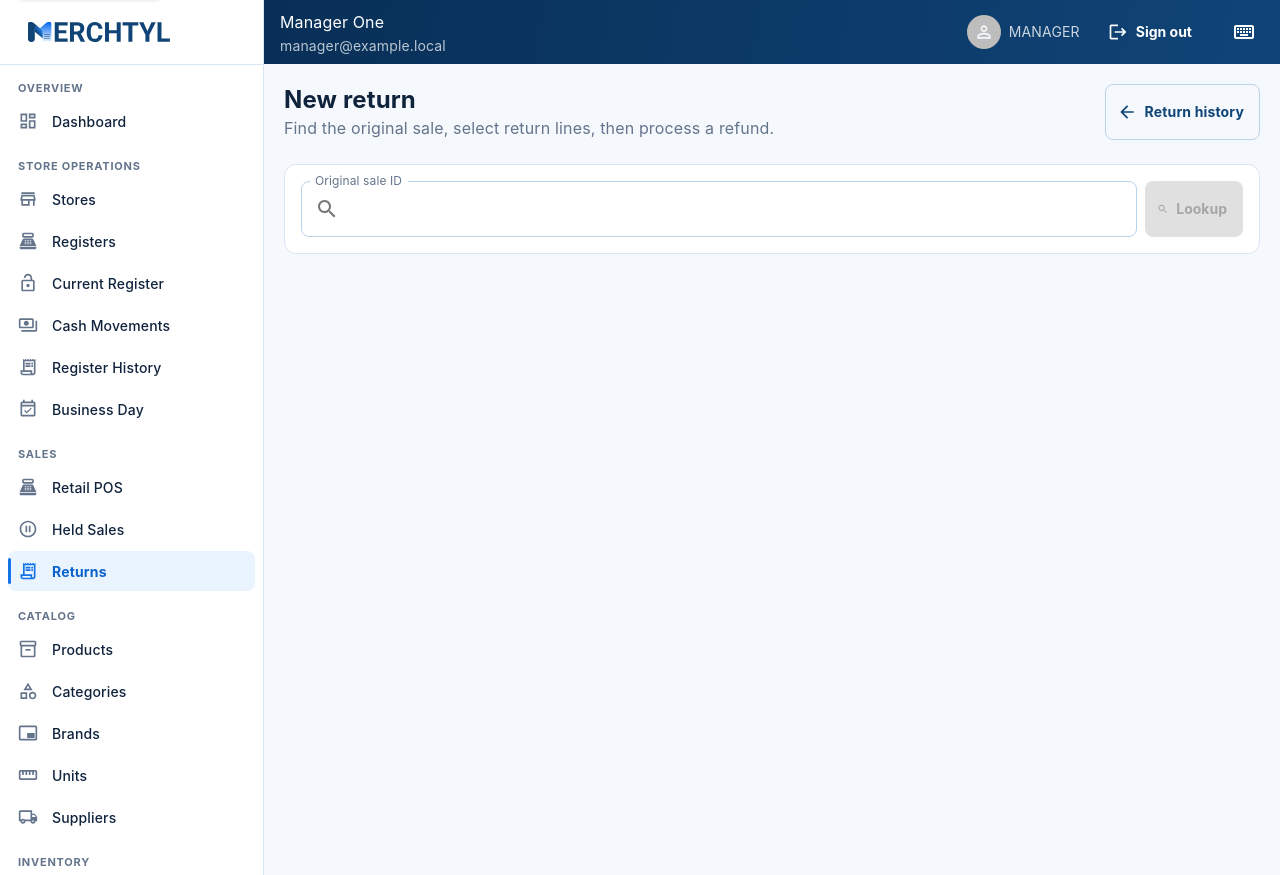
it: return and refund pages › creates a return and processes a refund from the original sale
Expected: the heading "New return" is shown, [284,85,416,114]
Type "00000000-0000-0000-0000-000000000910" into the field labelled "Original sale ID".
click(742, 209); type("00000000-0000-0000-0000-000000000910")  # box [347,181,1137,237]
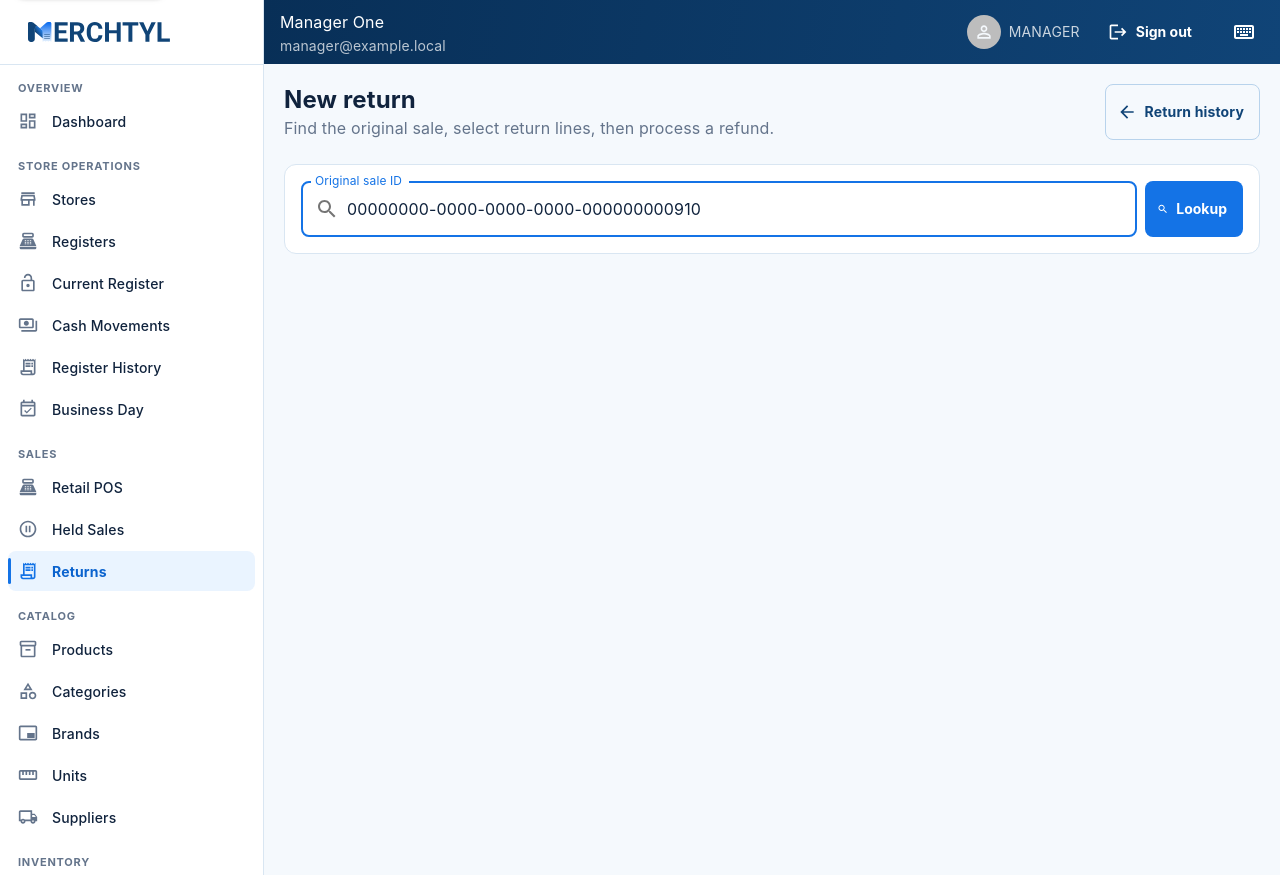
Click the button "Lookup".
click(1194, 209)  # box [1145,181,1243,237]
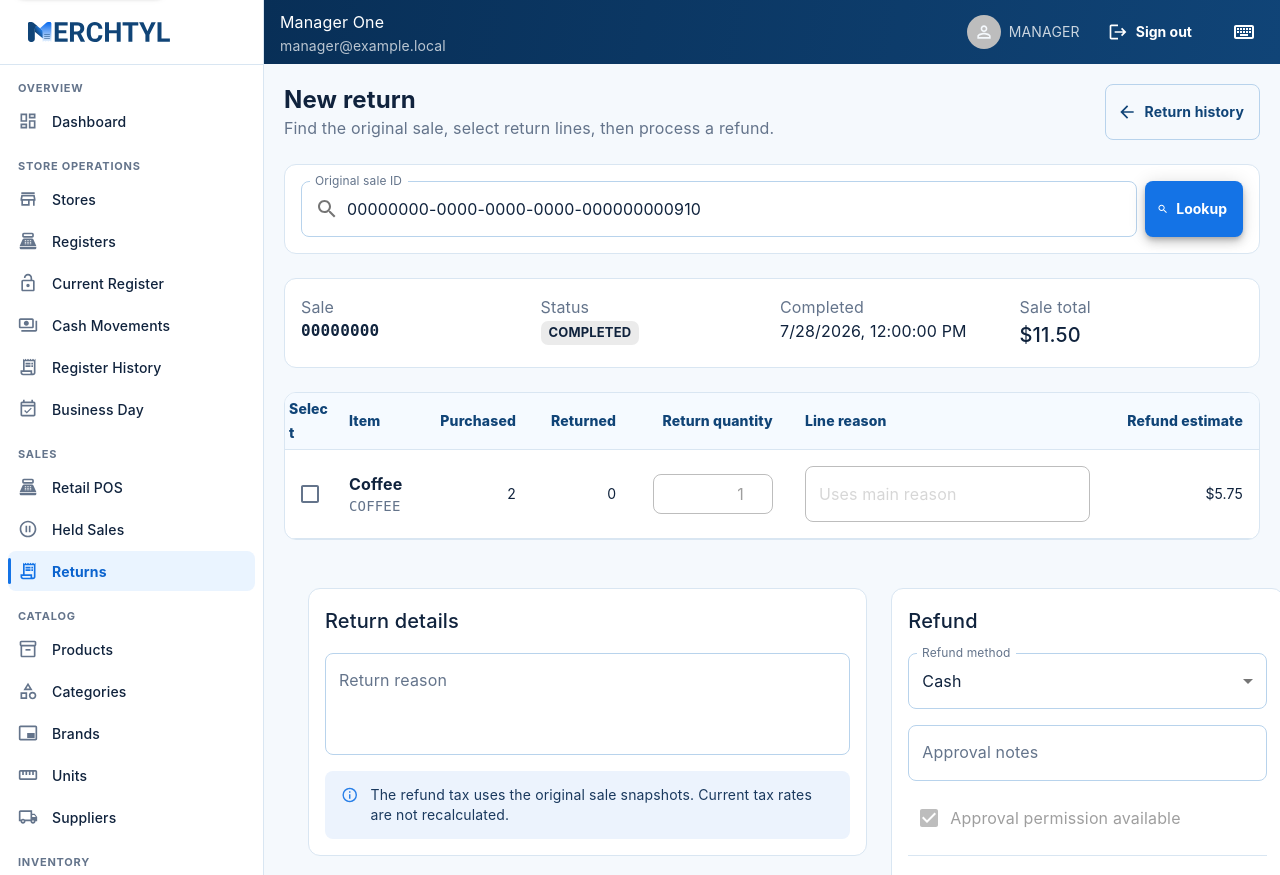
Now the text "Coffee" is shown, box [349,472,405,496]
Click the checkbox named "Select Coffee".
click(310, 494)  # box [298,482,322,506]
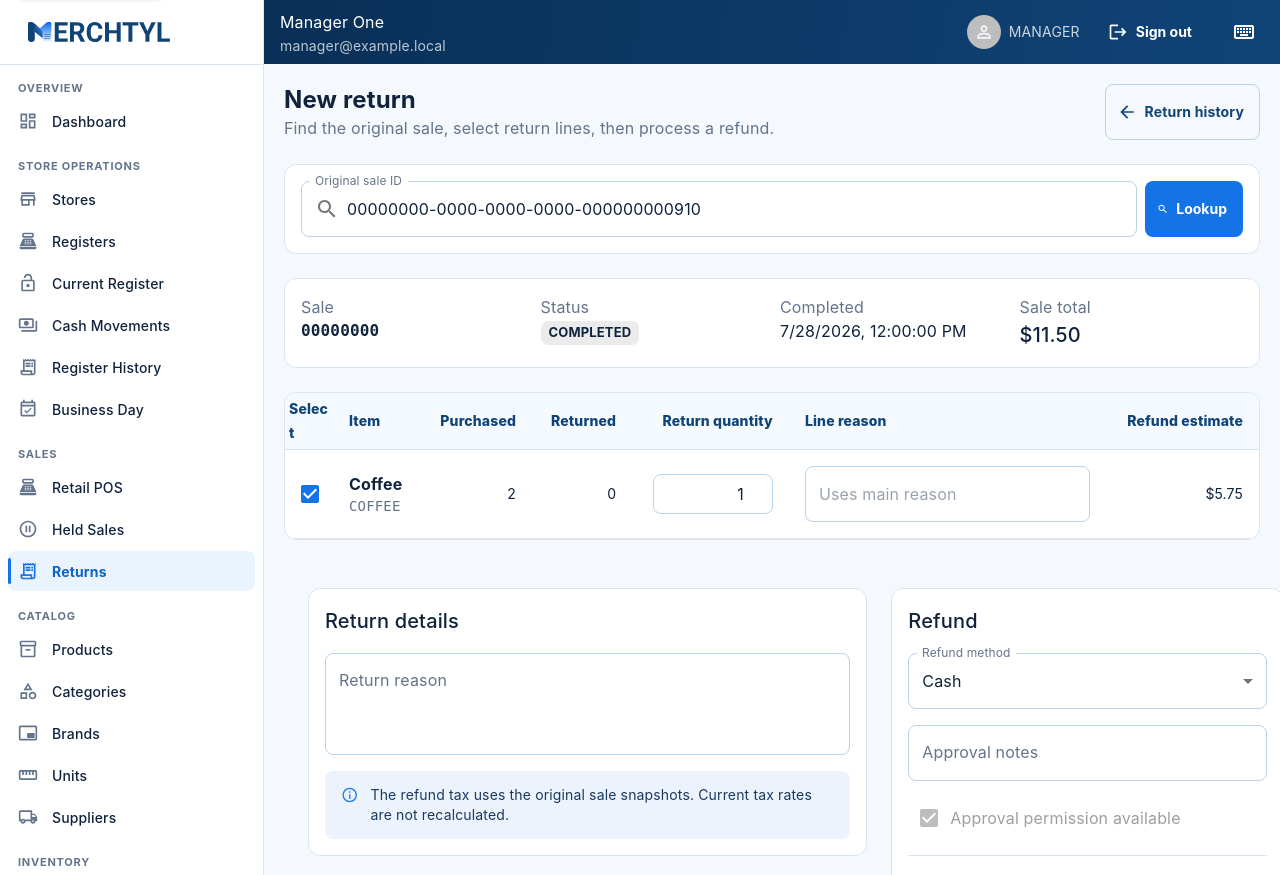
Type "Customer changed mind" into the text box named "Main return reason".
click(588, 704); type("Customer changed mind")  # box [339,670,836,738]
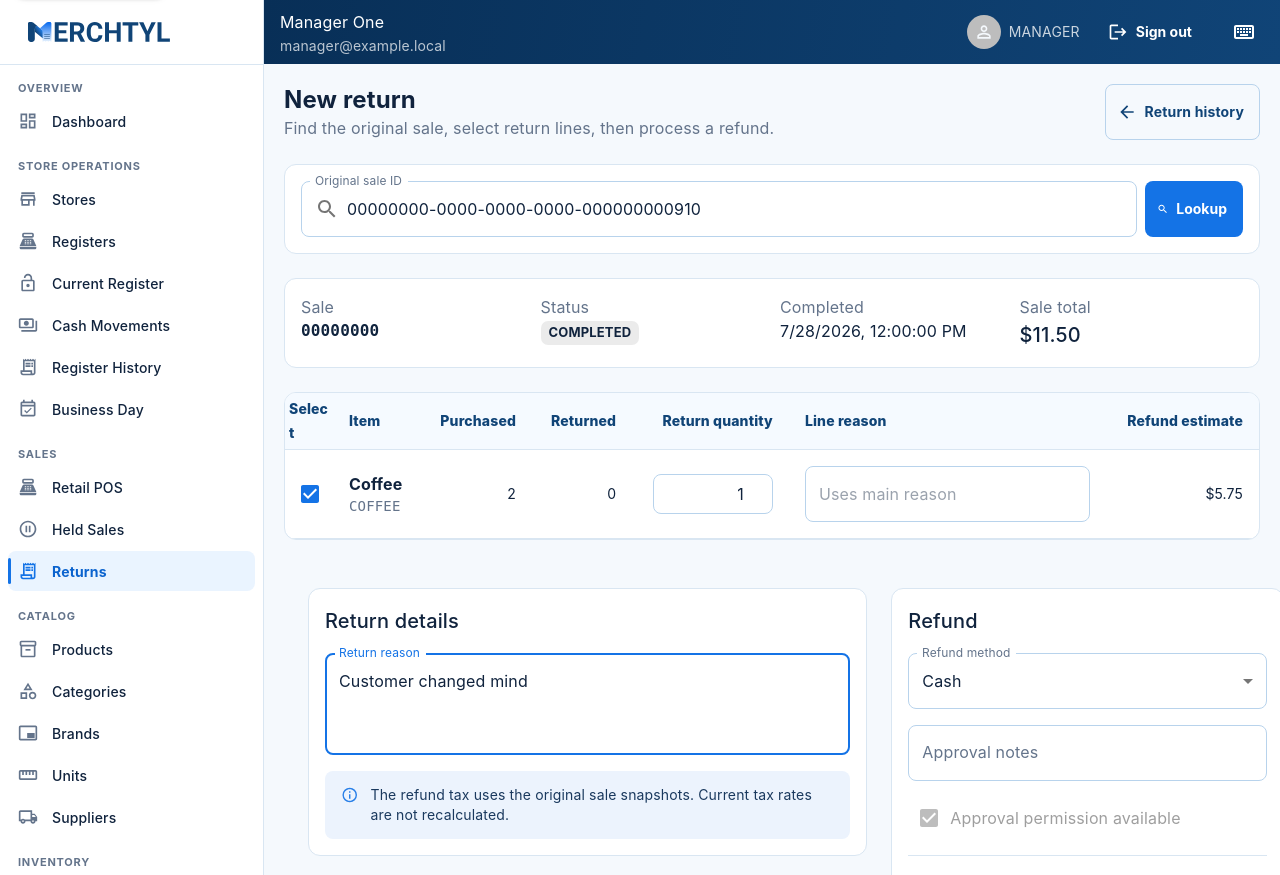
Type "Approved by manager" into the field labelled "Approval notes".
click(1088, 753); type("Approved by manager")  # box [908,725,1267,781]
(page scrolled)
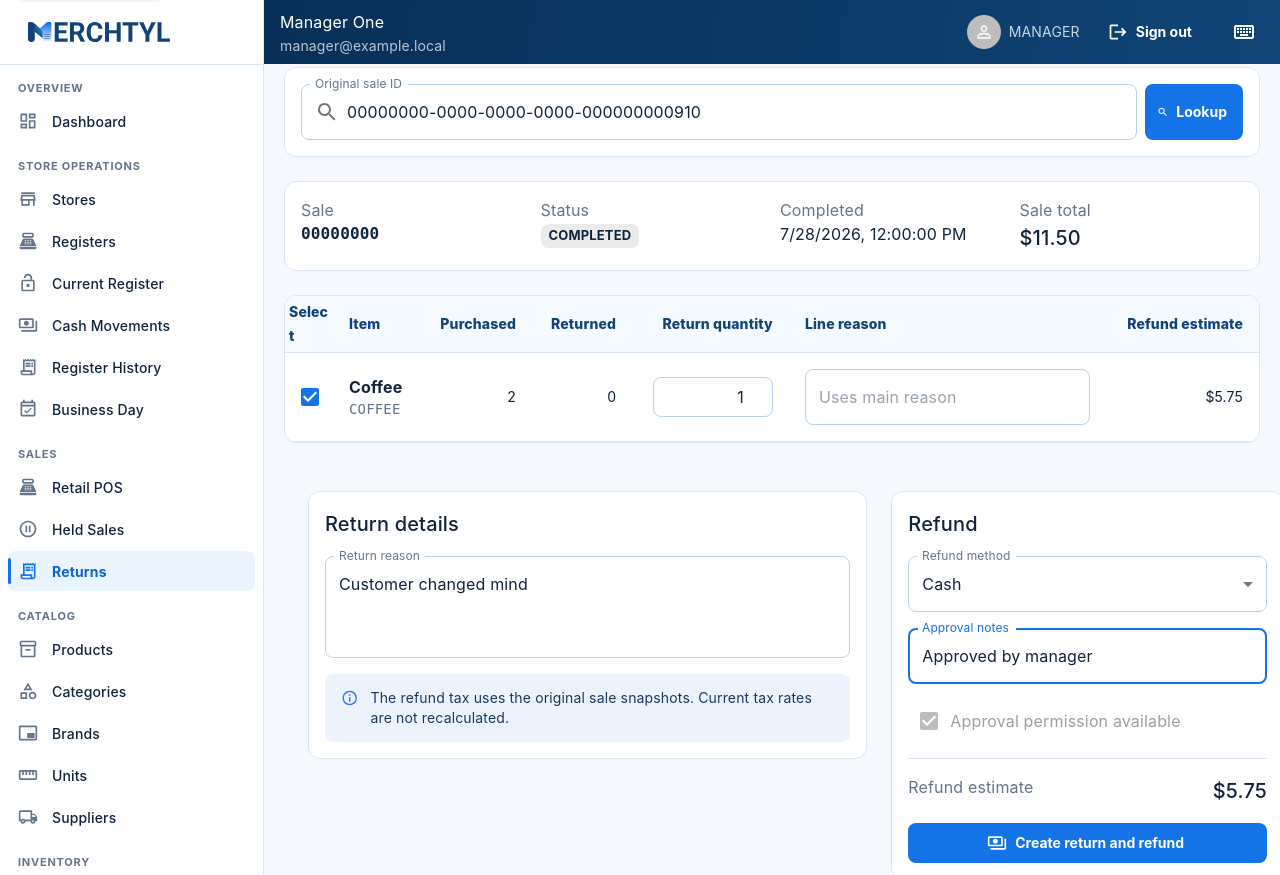
Now the button "Create return and refund" is enabled
Click the button "Create return and refund".
click(1088, 843)  # box [908,823,1267,863]
(page scrolled)
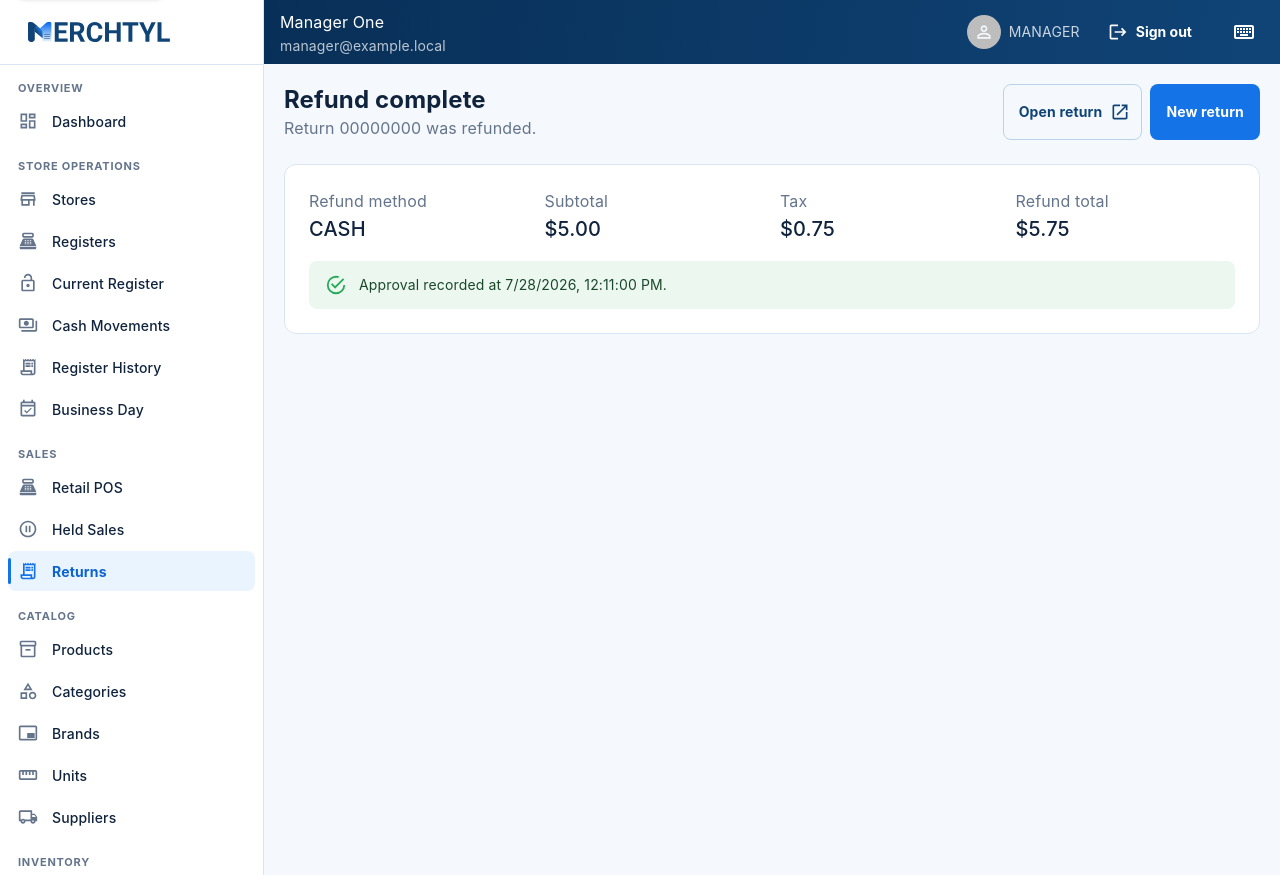
Now the heading "$5.75" is shown, box [1016,217,1070,241]
Now the heading "Refund complete" is shown, box [284,85,486,114]
